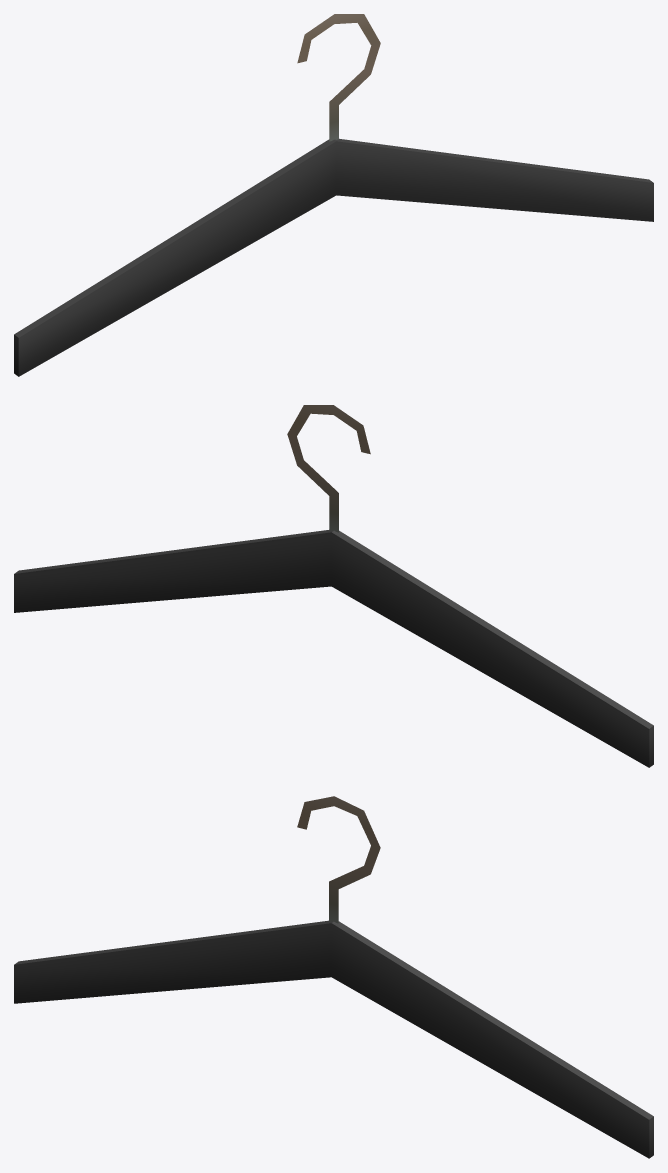
File: Hanger_01.fbx
The picture shows the model from 3 angles, top to bottom: view 1: azimuth 30°, elevation 25°; view 2: azimuth 150°, elevation 25°; view 3: azimuth 330°, elevation 25°; orthographic projection.
Visible parts, largest first — view 1: Hanger_01; view 2: Hanger_01; view 3: Hanger_01.
Boxes of the visible parts, left/top/right/bottom form: Hanger_01: left=14, top=14, right=653, bottom=376; Hanger_01: left=14, top=405, right=653, bottom=767; Hanger_01: left=14, top=796, right=653, bottom=1158.
Size of the model in its own units: 0.1552 by 0.0662 by 0.00202.
